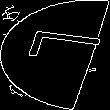L_E: (9, 35, 101, 75)
